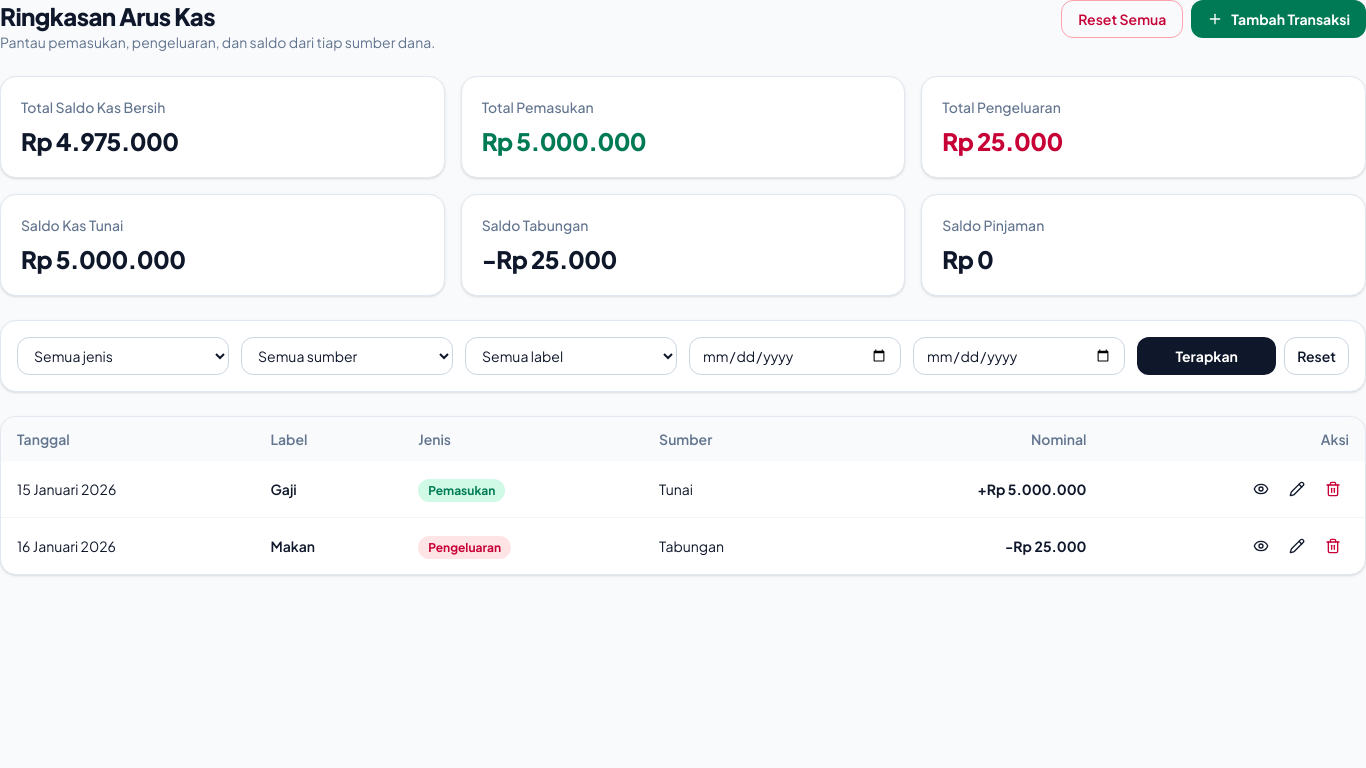
Test: HomePage › membuka dan menutup modal tambah, serta memuat ulang saat tersimpan
Click the button with test id "add-button" at (1279,19), box [1191,0,1365,38]
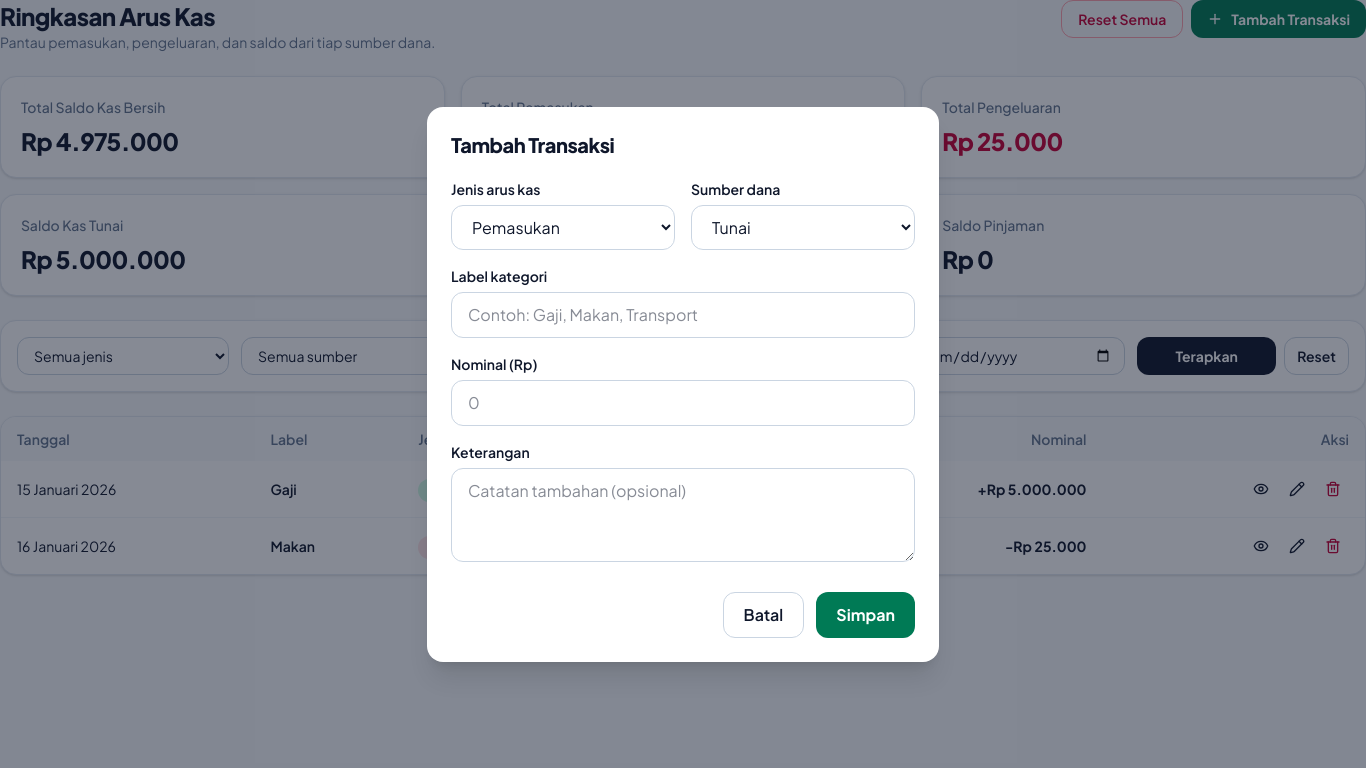
Check: the dialog is shown
